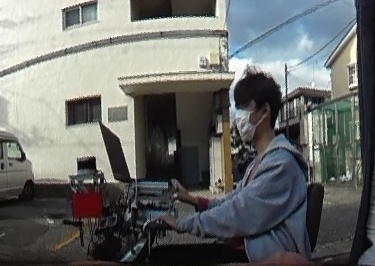person: (171, 74, 309, 266)
